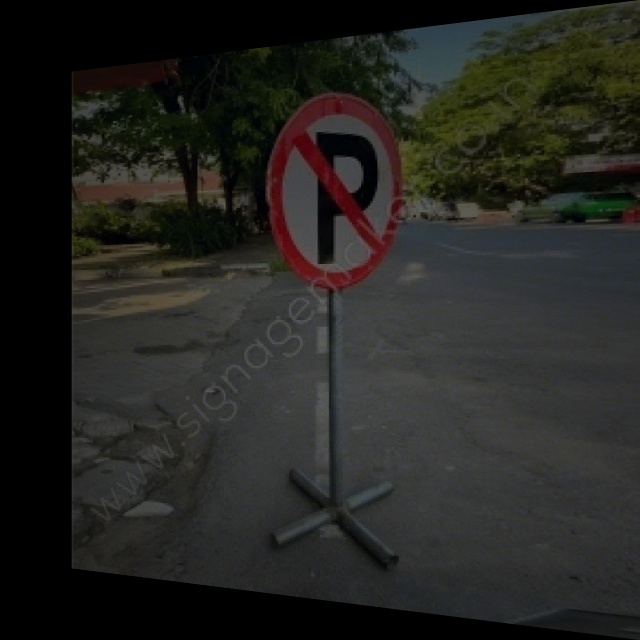No_Parking: (268, 83, 405, 290)
